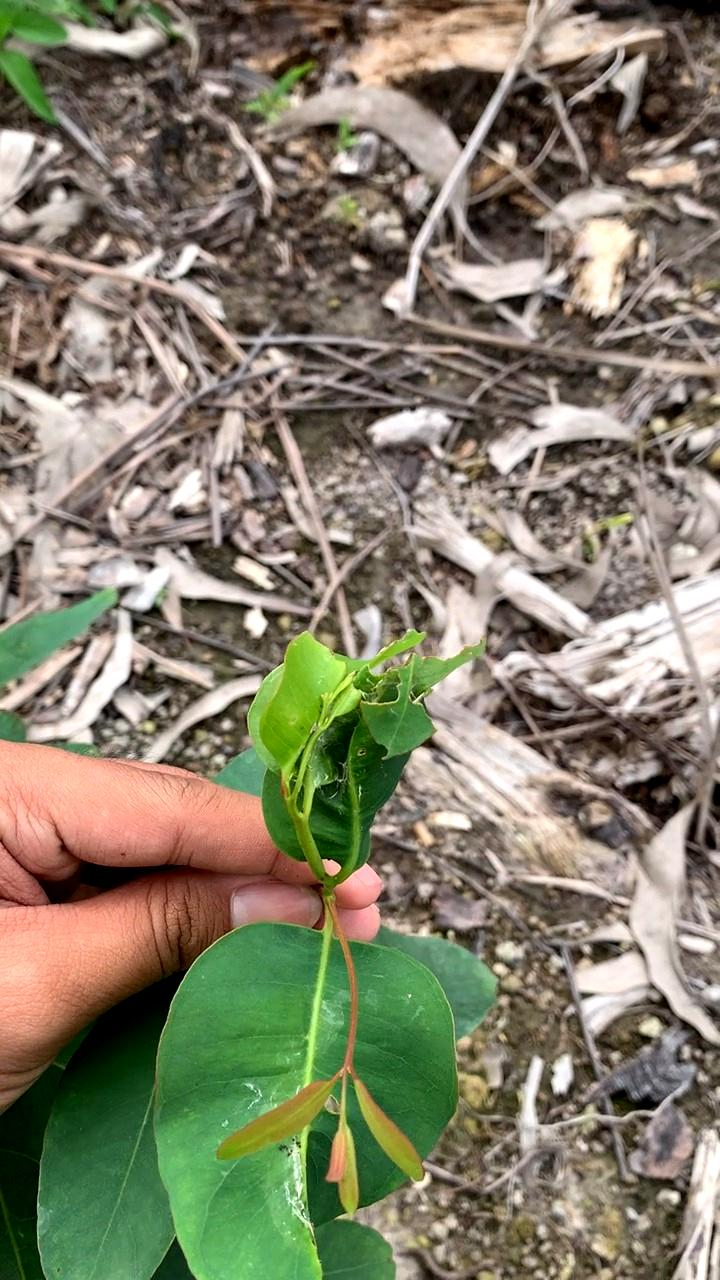Leaf Roller - Leaf: (248, 577, 487, 870)
